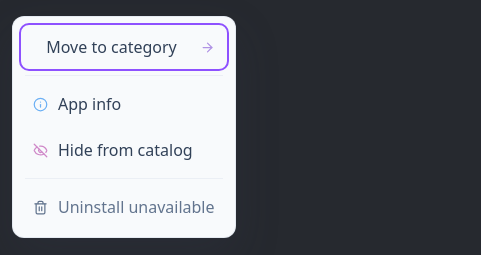
Test: AppActionsMenu category cascade › dismisses the cascade when a pointer event happens outside both menus
Click the menu item "Move to category". click: (124, 47)
box: [21,25,227,69]
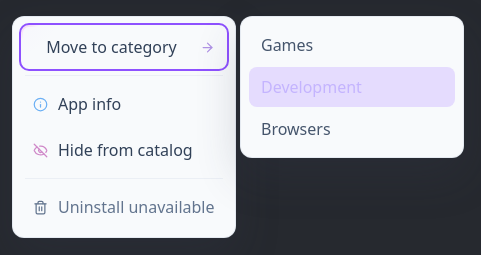
Expected: the menu named "Move Visual Studio Code to category" is shown, [240,16,464,158]
